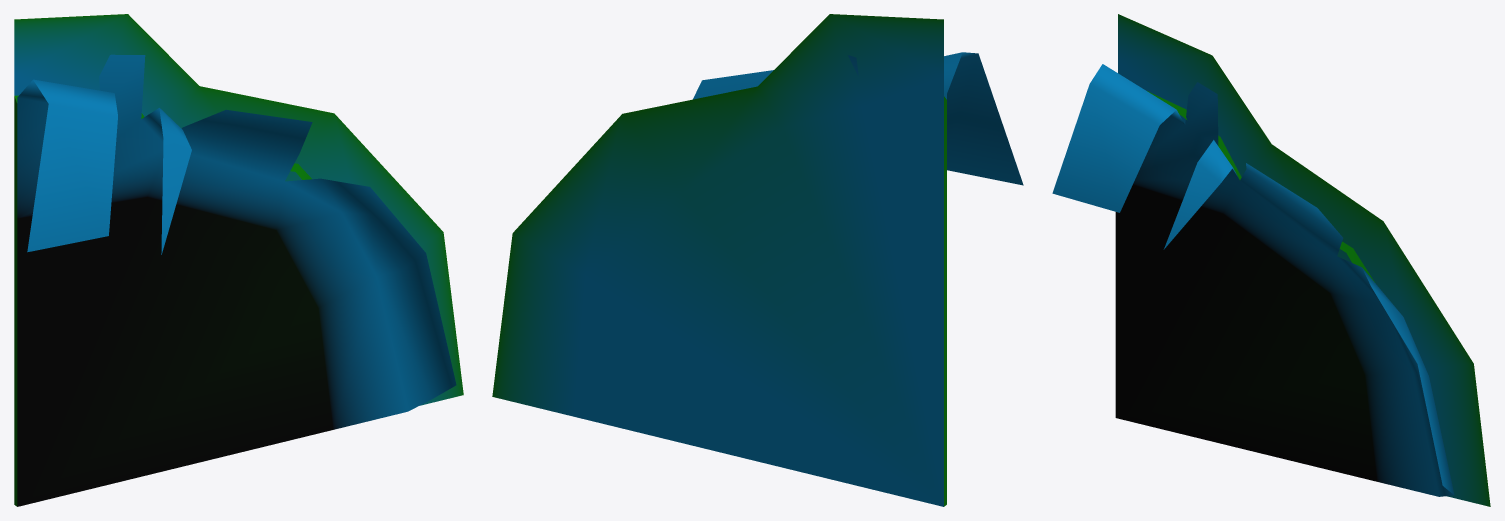
File: DBK_Drywall_End_A_Single.fbx
The picture shows the model from 3 angles, left to right: view 1: azimuth 30°, elevation 25°; view 2: azimuth 150°, elevation 25°; view 3: azimuth 330°, elevation 25°; orthographic projection. The views are drawn at different scales.
Parts seen in each view (by area): view 1: DBK_Drywall_End_A_Single; view 2: DBK_Drywall_End_A_Single; view 3: DBK_Drywall_End_A_Single.
Boxes of the visible parts, x1,y1,x2,y2 form: DBK_Drywall_End_A_Single: (14,14,463,506); DBK_Drywall_End_A_Single: (492,14,1023,506); DBK_Drywall_End_A_Single: (1052,14,1490,506).
Size of what is drawn, in the model's own units: 171 by 164 by 29.56.
